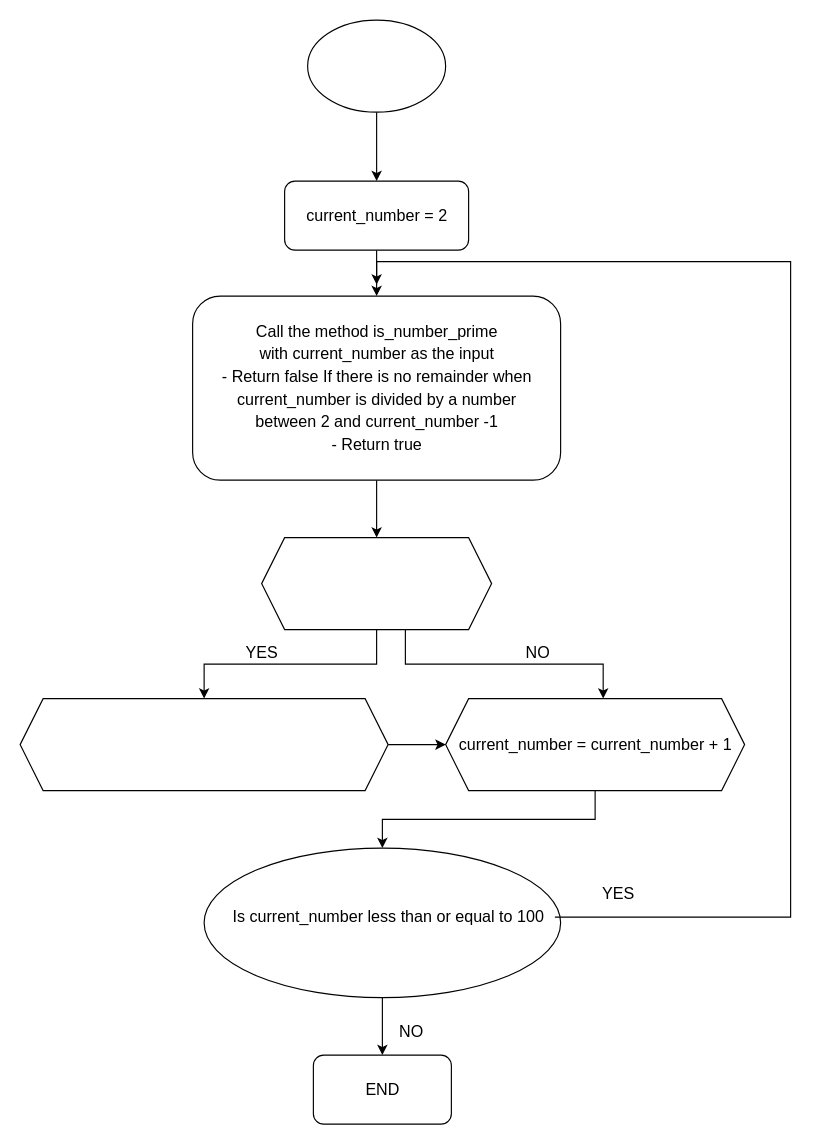
The diagram is 820 pixels wide and 1144 high, and some of its shapes have lost their labels. The shapes that lost their labels are listed below. From the top down, each one's centre as x and y in pixels, then its label:
point 376,65: START
point 376,583: Is current_number prime?
point 203,744: Print "#{current_number} is a prime number"
